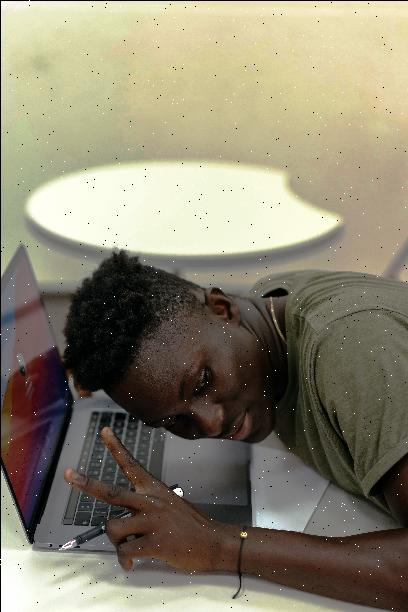Scissors: (61, 422, 212, 578)
